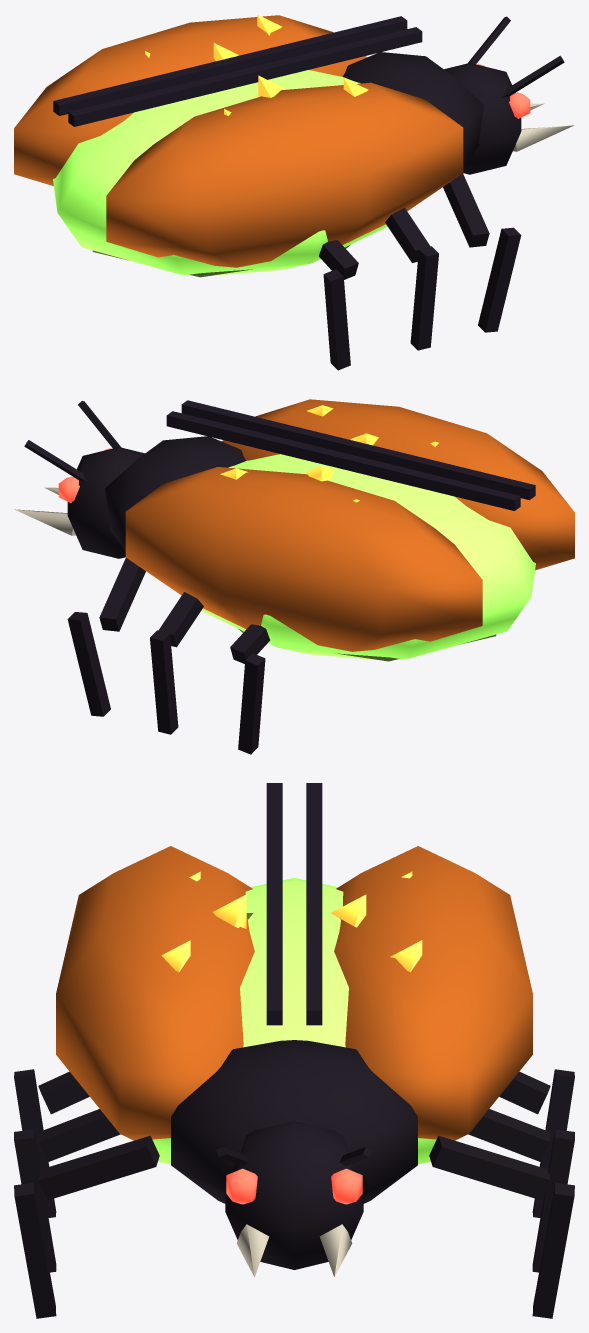
The model's file is enemy_moltingBeetle.glb.
3 views of the same model, one above another, from view 1: azimuth 30°, elevation 25°; view 2: azimuth 150°, elevation 25°; view 3: azimuth 270°, elevation 25° (orthographic). The views are drawn at different scales.
Visible parts, largest first — view 1: shell_r, shell_l, abdomen, shell_r_seam, thorax, shell_l_seam, head, leg_r0_tibia, leg_r1_tibia, leg_r2_tibia, leg_r0_femur, leg_r1_femur (+4 smaller); view 2: shell_l, shell_r, abdomen, shell_l_seam, thorax, shell_r_seam, head, leg_l0_tibia, leg_l1_tibia, leg_l2_tibia, leg_l0_femur, leg_l1_femur (+4 smaller); view 3: shell_l, shell_r, thorax, head, abdomen, shell_l_seam, shell_r_seam, leg_l0_femur, leg_r0_femur, leg_l0_tibia, leg_r0_tibia, leg_l1_femur (+12 smaller).
Boxes of the visible parts, box(x1,y1,x2,y2) form: shell_r: box(106, 82, 463, 267); shell_l: box(14, 15, 366, 186); abdomen: box(53, 70, 387, 275); shell_r_seam: box(68, 27, 422, 126); thorax: box(342, 52, 483, 166); shell_l_seam: box(53, 16, 407, 115); head: box(444, 63, 521, 174); leg_r0_tibia: box(478, 227, 521, 332); leg_r1_tibia: box(410, 246, 438, 350); leg_r2_tibia: box(323, 269, 350, 370); leg_r0_femur: box(443, 173, 489, 247); leg_r1_femur: box(385, 207, 430, 262); shell_l: box(125, 467, 482, 651); shell_r: box(222, 399, 574, 570); abdomen: box(201, 454, 535, 660); shell_l_seam: box(166, 411, 520, 510); thorax: box(105, 436, 245, 550); shell_r_seam: box(181, 400, 535, 500); head: box(67, 447, 144, 558); leg_l0_tibia: box(67, 612, 110, 716); leg_l1_tibia: box(150, 630, 178, 734); leg_l2_tibia: box(238, 653, 265, 754); leg_l0_femur: box(99, 558, 145, 631); leg_l1_femur: box(158, 592, 203, 647); shell_l: box(334, 846, 532, 1140); shell_r: box(56, 846, 254, 1140); thorax: box(171, 1040, 417, 1203); head: box(225, 1121, 363, 1269); abdomen: box(152, 878, 436, 1164); shell_l_seam: box(306, 783, 322, 1025); shell_r_seam: box(266, 783, 282, 1025); leg_l0_femur: box(429, 1135, 550, 1200); leg_r0_femur: box(38, 1135, 159, 1200); leg_l0_tibia: box(532, 1182, 574, 1318); leg_r0_tibia: box(14, 1182, 56, 1318); leg_l1_femur: box(468, 1109, 549, 1161).
Size of the model in its own units: 0.39 by 0.1765 by 0.2812.
